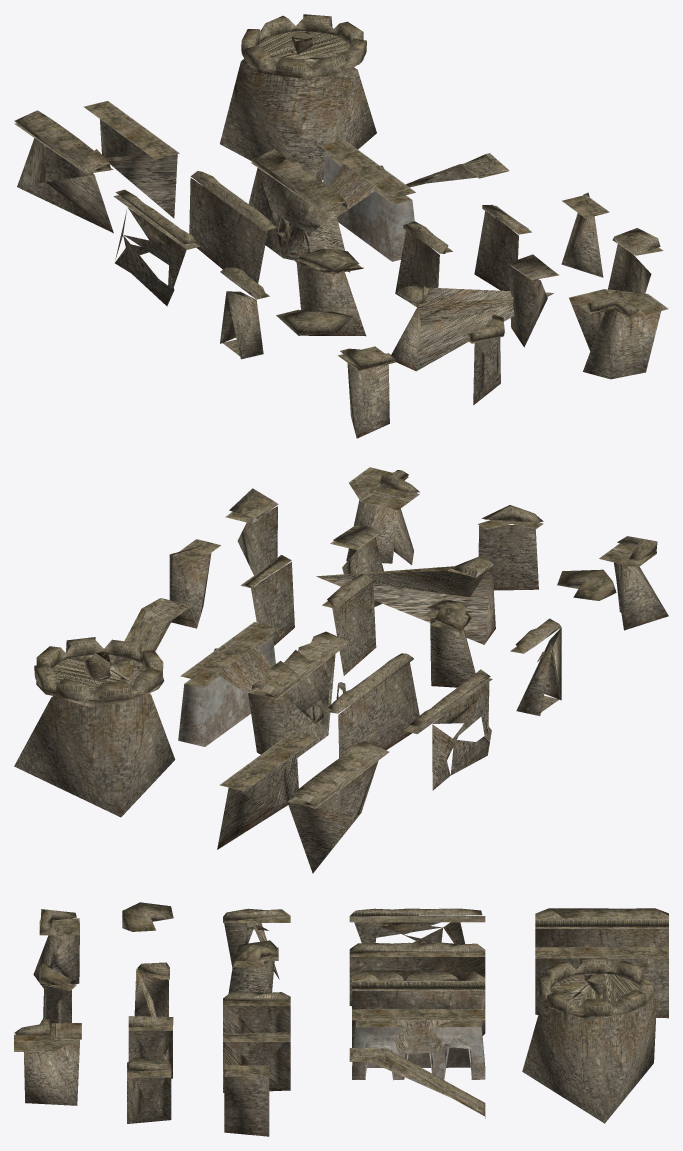
3 views of the same model, one above another, from view 1: azimuth 30°, elevation 25°; view 2: azimuth 150°, elevation 25°; view 3: azimuth 270°, elevation 25° (orthographic). The views are drawn at different scales.
Parts seen in each view (by area): view 1: modular_fort_01_wall_thick_corner_02.001, modular_fort_01_wall_thick_corner_02.002, modular_fort_01_wall_thick_corner_02; view 2: modular_fort_01_wall_thick_corner_02.001, modular_fort_01_wall_thick_corner_02.002, modular_fort_01_wall_thick_corner_02; view 3: modular_fort_01_wall_thick_corner_02.001, modular_fort_01_wall_thick_corner_02.002, modular_fort_01_wall_thick_corner_02.
Part boxes in pixels (x1=…): modular_fort_01_wall_thick_corner_02.001: x1=17, y1=31, x2=660, y2=438; modular_fort_01_wall_thick_corner_02.002: x1=14, y1=14, x2=668, y2=370; modular_fort_01_wall_thick_corner_02: x1=323, y1=155, x2=414, y2=261; modular_fort_01_wall_thick_corner_02.001: x1=14, y1=488, x2=668, y2=873; modular_fort_01_wall_thick_corner_02.002: x1=34, y1=467, x2=657, y2=808; modular_fort_01_wall_thick_corner_02: x1=178, y1=638, x2=275, y2=746; modular_fort_01_wall_thick_corner_02.001: x1=24, y1=922, x2=668, y2=1136; modular_fort_01_wall_thick_corner_02.002: x1=14, y1=902, x2=668, y2=1118; modular_fort_01_wall_thick_corner_02: x1=352, y1=1022, x2=485, y2=1080.
Bounding box in the file's own units: 43.23 × 13.53 × 71.38.
3 materials, 3 textured.
